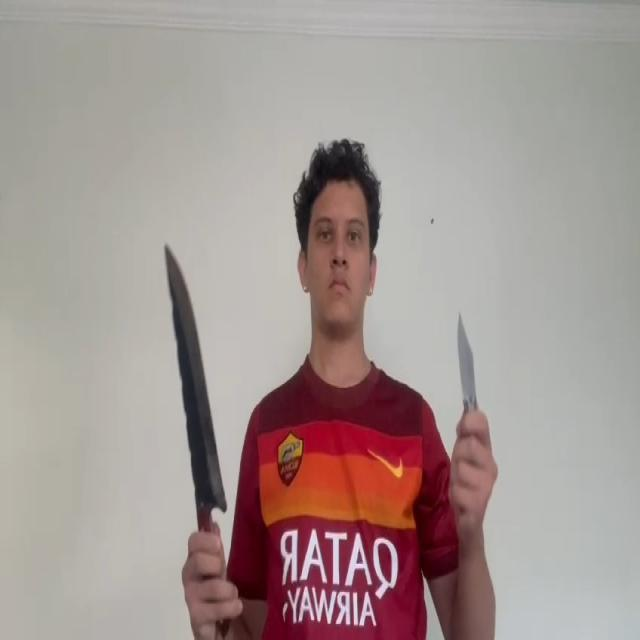knife: (165, 246, 228, 510), (457, 315, 476, 399)
